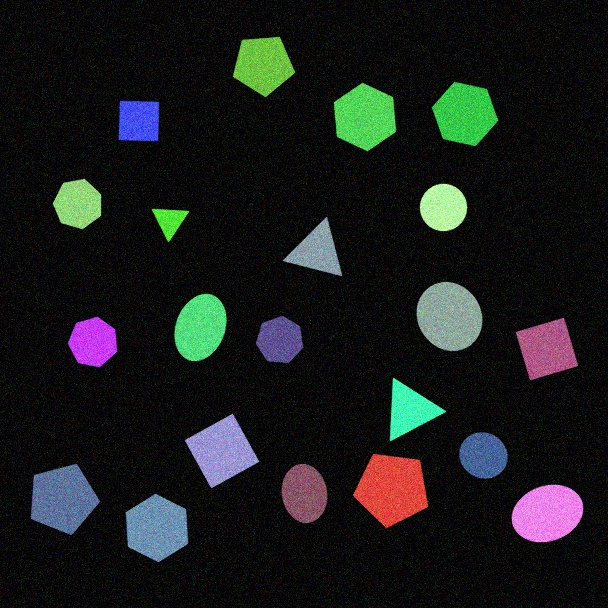Circulo: (416, 281, 483, 352), (419, 183, 468, 232), (458, 432, 509, 479)
Elipse: (511, 484, 584, 543), (174, 293, 227, 362), (281, 463, 328, 524)
Heptagono: (67, 316, 118, 368), (52, 178, 102, 230), (255, 315, 304, 364)
Hexagono: (431, 81, 499, 147), (125, 493, 189, 563), (333, 82, 397, 152)
Pentagono: (352, 453, 429, 529), (30, 463, 101, 536), (232, 36, 296, 98)
Quadrado: (184, 413, 260, 489), (515, 317, 579, 381), (118, 100, 160, 142)
Triangulo: (389, 377, 447, 442), (282, 217, 343, 277), (151, 208, 190, 243)
